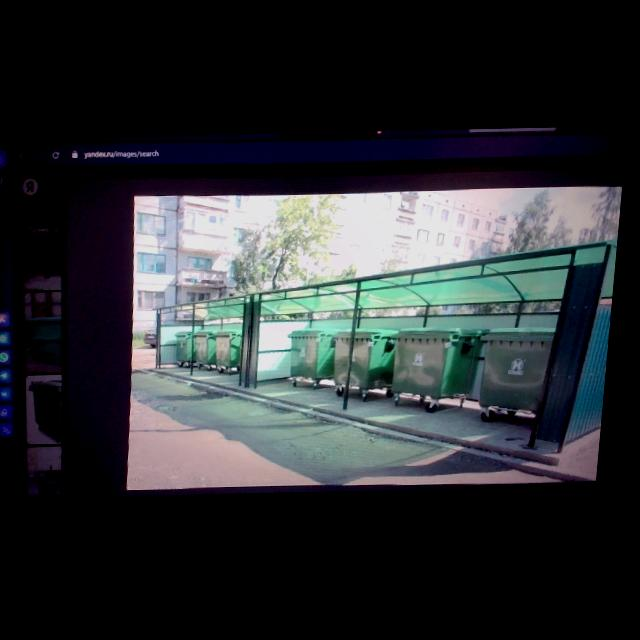Trash_Can_Closed: (481, 329, 563, 418), (393, 328, 494, 400), (334, 329, 403, 392), (291, 330, 344, 380), (217, 331, 249, 369), (198, 332, 225, 365), (179, 332, 205, 363)
